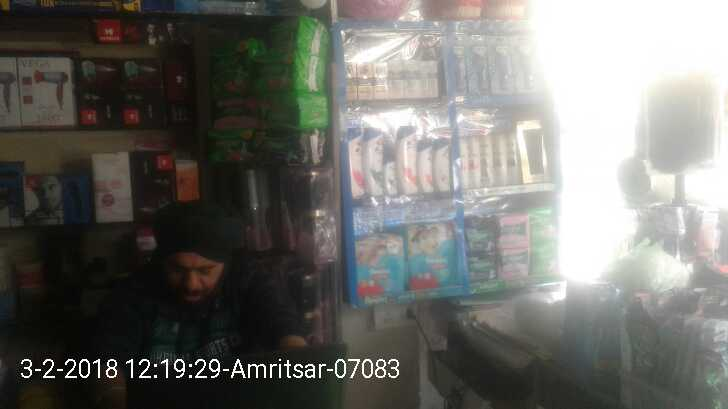venus: (450, 34, 473, 90), (495, 37, 519, 89), (473, 37, 495, 90), (519, 36, 539, 89)
